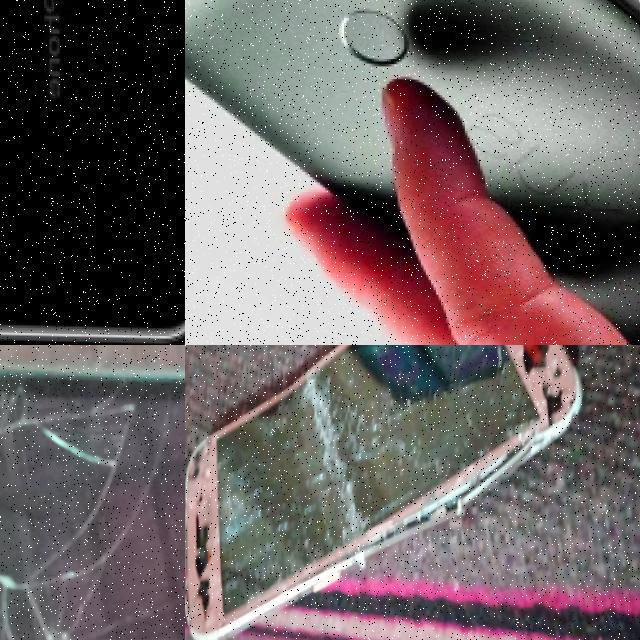screen crack: (185, 345, 593, 640), (0, 370, 185, 640)
